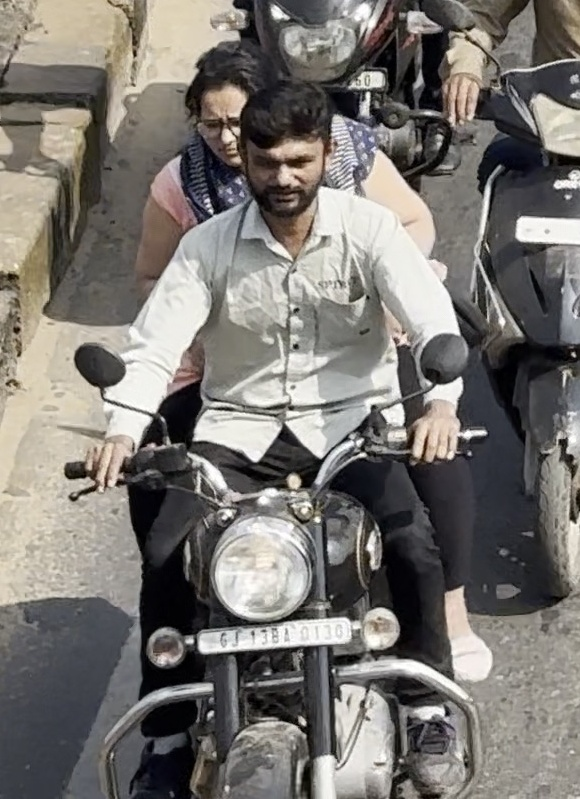BikeWithRider: (47, 35, 504, 799)
NoHelmet: (232, 79, 344, 225), (180, 33, 283, 184)
